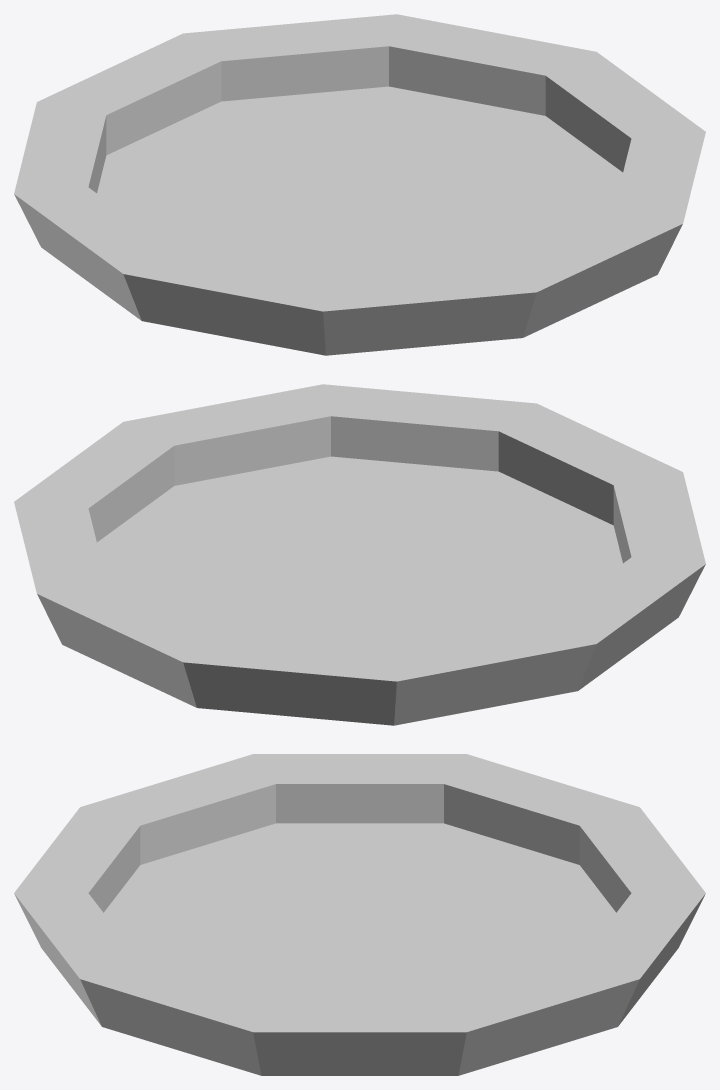
File: plate.glb
The picture shows the model from 3 angles, top to bottom: view 1: azimuth 30°, elevation 25°; view 2: azimuth 150°, elevation 25°; view 3: azimuth 270°, elevation 25°; orthographic projection. The views are drawn at different scales.
Parts seen in each view (by area): view 1: plate; view 2: plate; view 3: plate.
Boxes of the visible parts, x1,y1,x2,y2 form: plate: [14, 14, 705, 355]; plate: [14, 384, 705, 725]; plate: [14, 754, 705, 1075].
Bounding box in the file's own units: 0.224 × 0.0205 × 0.2355.
Materials: 1 (1 with a texture image).
